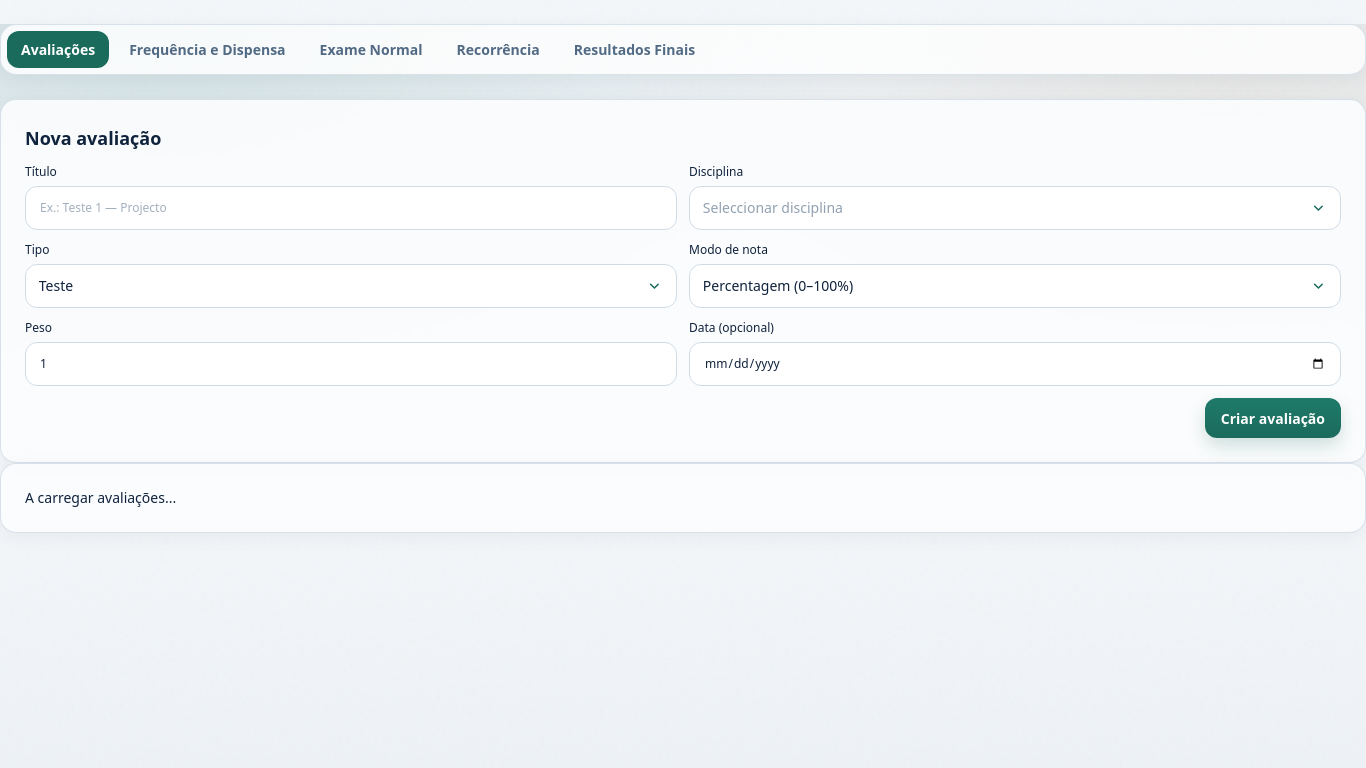
Test: AssessmentsPage › separador Exame Normal não permite nota a estudante dispensado
The width and height of the screenshot is (1366, 768).
Click the tab "Exame Normal".
click(371, 50)  # box top-left (306, 31), bottom-right (436, 68)
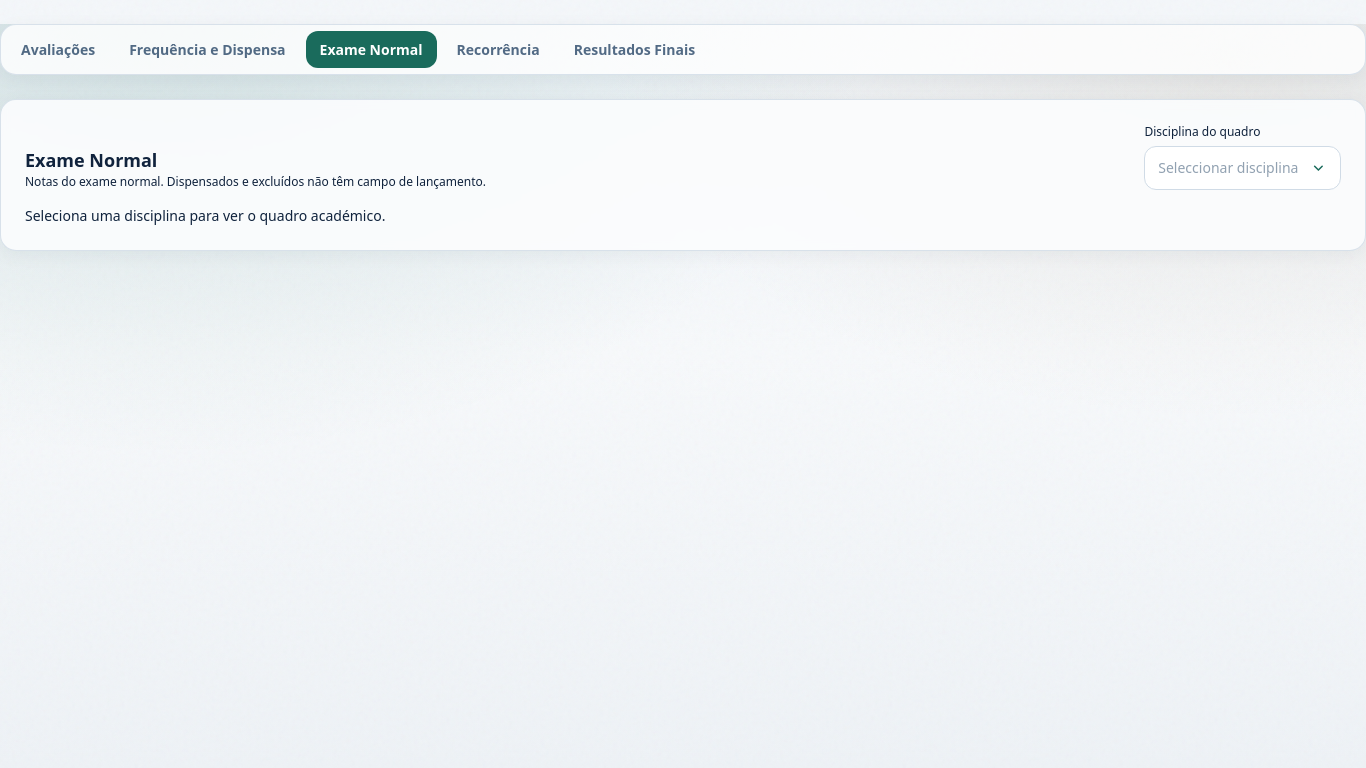
Check: the label labelled "Disciplina do quadro" is shown
Select "PTP3 — Projeto" in the dropdown labelled "Disciplina do quadro Seleccionar disciplina" at (1243, 157), box top-left (1144, 124), bottom-right (1341, 190)
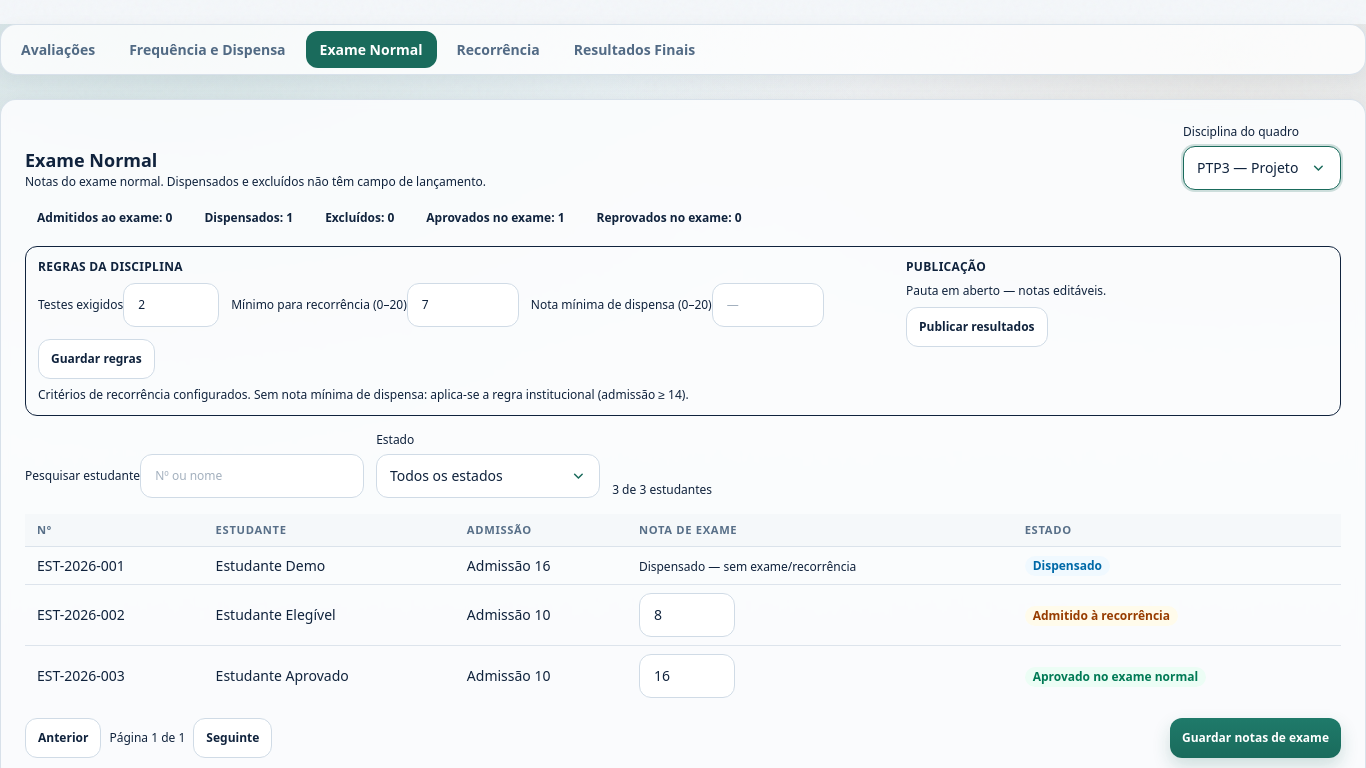
Check: the text "Dispensado — sem exame/recorrência" is shown, box top-left (639, 558), bottom-right (856, 574)
Check: the field named "Nota de exame de EST-2026-002" is shown, box top-left (639, 593), bottom-right (735, 637)
